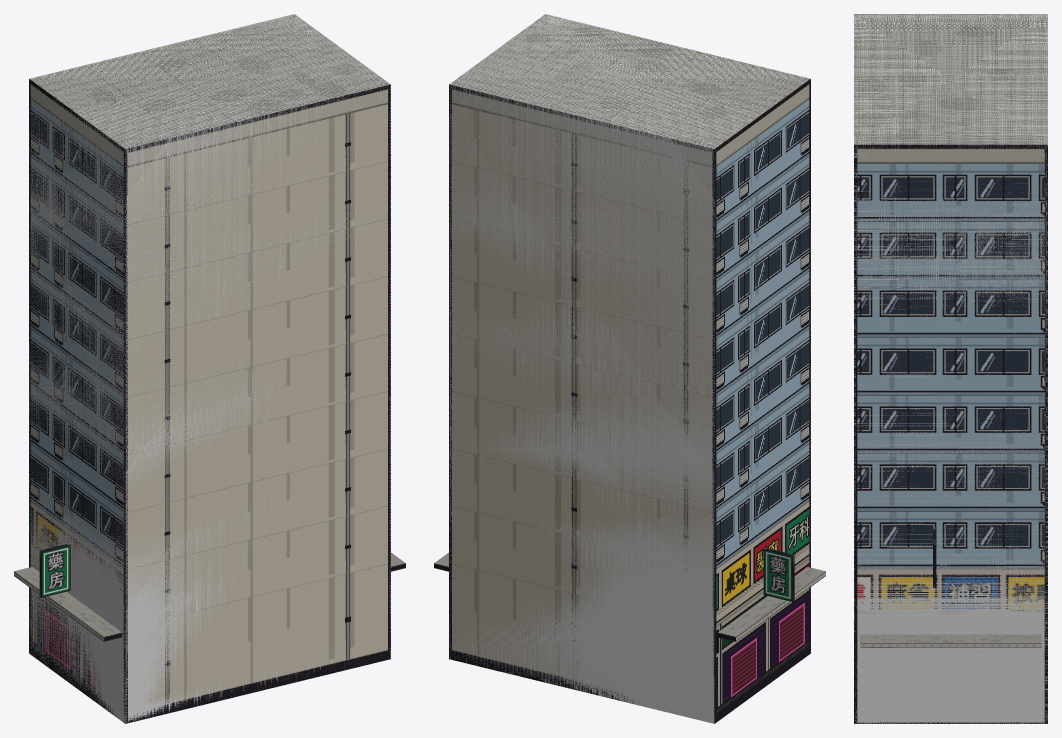
3 views of the same model, side by side, from view 1: azimuth 30°, elevation 25°; view 2: azimuth 150°, elevation 25°; view 3: azimuth 270°, elevation 25° (orthographic).
Parts seen in each view (by area): view 1: 19D-W16, COL_19D-W16_0; view 2: 19D-W16, COL_19D-W16_0; view 3: 19D-W16, COL_19D-W16_0.
Boxes of the visible parts, box(x1,y1,x2,y2) form: 19D-W16: box(14, 14, 405, 723); COL_19D-W16_0: box(29, 14, 390, 723); 19D-W16: box(434, 14, 825, 723); COL_19D-W16_0: box(449, 14, 810, 723); 19D-W16: box(854, 14, 1047, 723); COL_19D-W16_0: box(854, 14, 1047, 723).
Bounding box in the file's own units: 18.2 × 30 × 9.1.
Materials: 1 (1 with a texture image).
